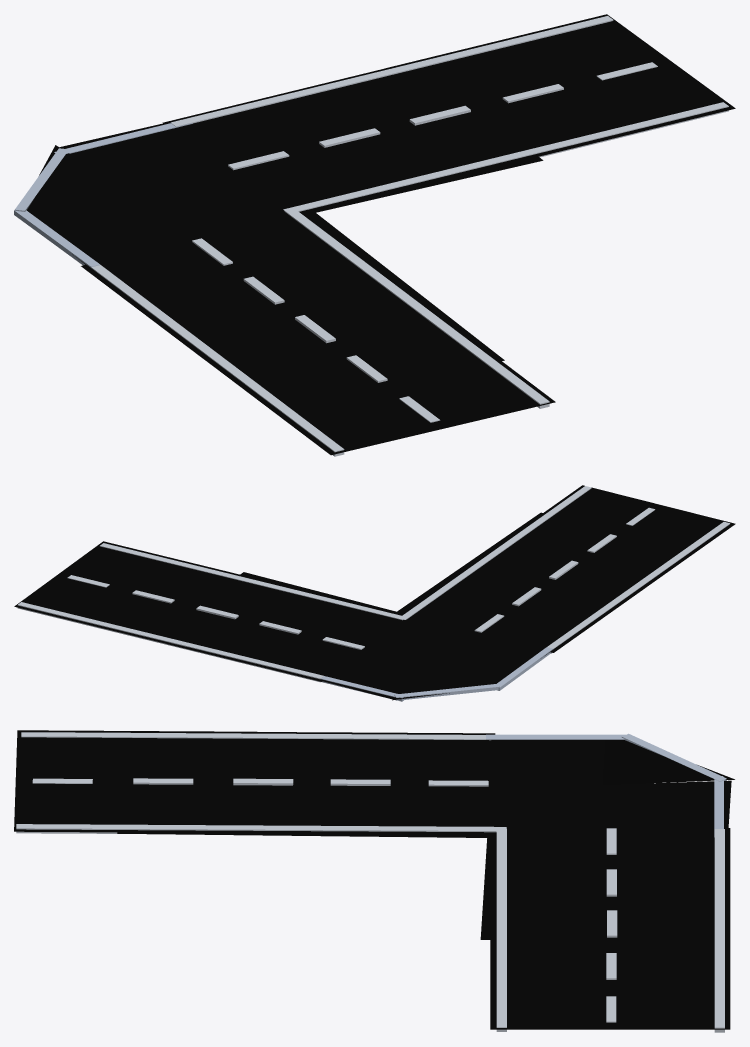
File: DÖNEMEÇLİ YOL.fbx
The picture shows the model from 3 angles, top to bottom: view 1: azimuth 30°, elevation 25°; view 2: azimuth 150°, elevation 25°; view 3: azimuth 270°, elevation 25°; orthographic projection. The views are drawn at different scales.
Parts seen in each view (by area): view 1: Küp; view 2: Küp; view 3: Küp.
Boxes of the visible parts, x1=… form: Küp: x1=14, y1=14, x2=735, y2=456; Küp: x1=14, y1=485, x2=735, y2=701; Küp: x1=14, y1=730, x2=734, y2=1032.
Size of the model in its own units: 1539 by 15.52 by 1568.
